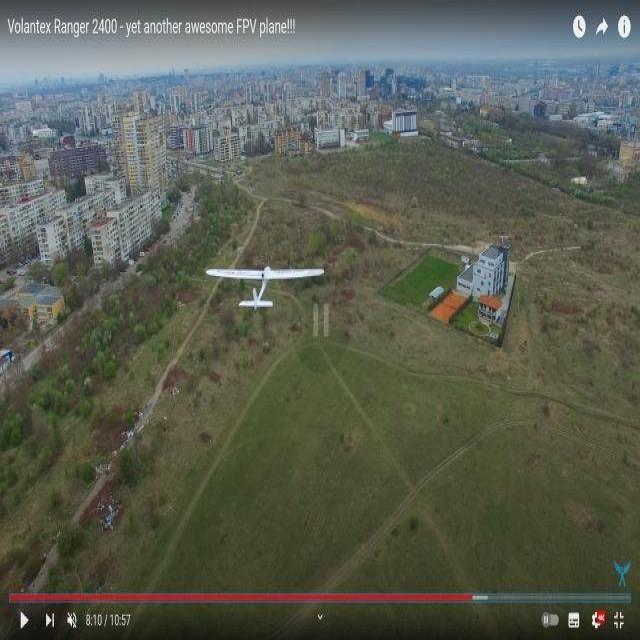Airplane: (198, 256, 334, 320)
